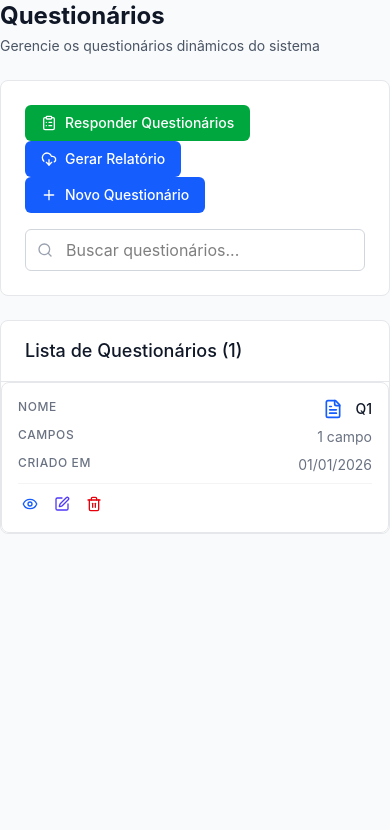
Test: Questionnaires page › opens new questionnaire modal
Click the button "Novo Questionário": (115, 195) [25, 177, 205, 213]
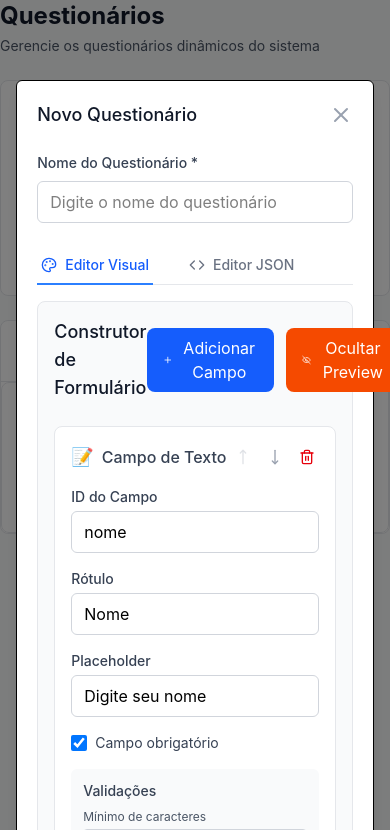
Expected: the heading "Novo Questionário" is shown, [37, 101, 197, 129]
